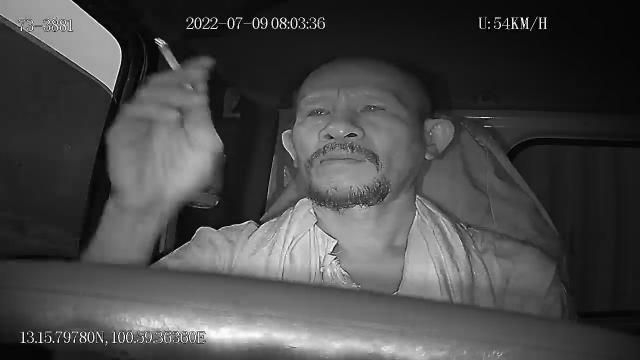SafeDriving: (354, 94, 393, 120), (299, 100, 337, 124)
Smoking: (153, 36, 183, 72)
